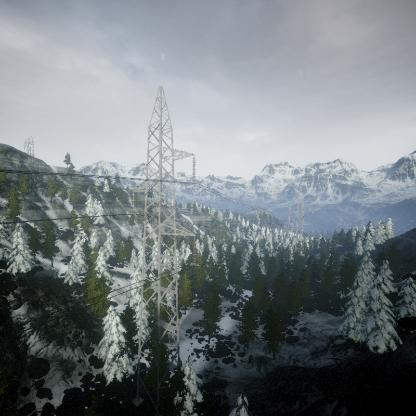tower: (124, 83, 200, 408)
